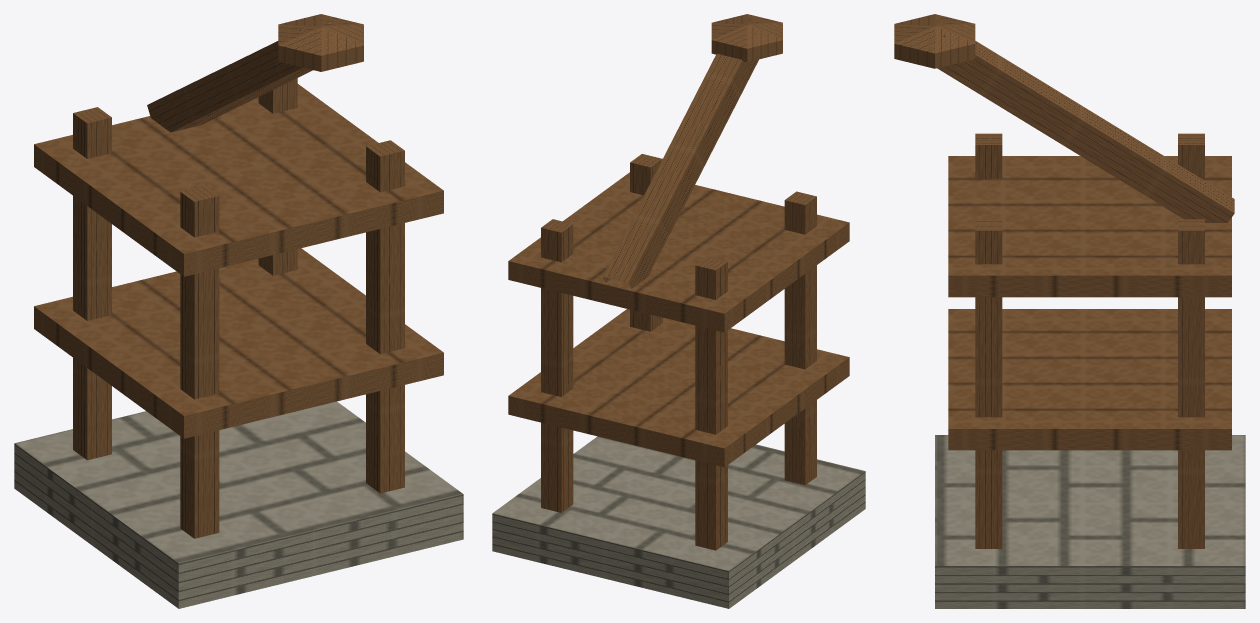
The model's file is military-CATAPULT_TOWER-1-lod2.glb.
3 renders of one model, left to right at view 1: azimuth 30°, elevation 25°; view 2: azimuth 150°, elevation 25°; view 3: azimuth 270°, elevation 25°, orthographic. The views are drawn at different scales.
Bounding box in the file's own units: 0.46 × 0.845 × 0.52.
1 material, 1 textured.
